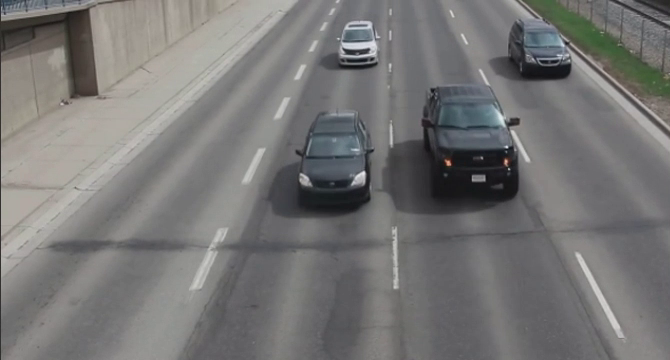car: (417, 75, 522, 202), (296, 108, 374, 212), (508, 14, 579, 82), (333, 19, 384, 69)
